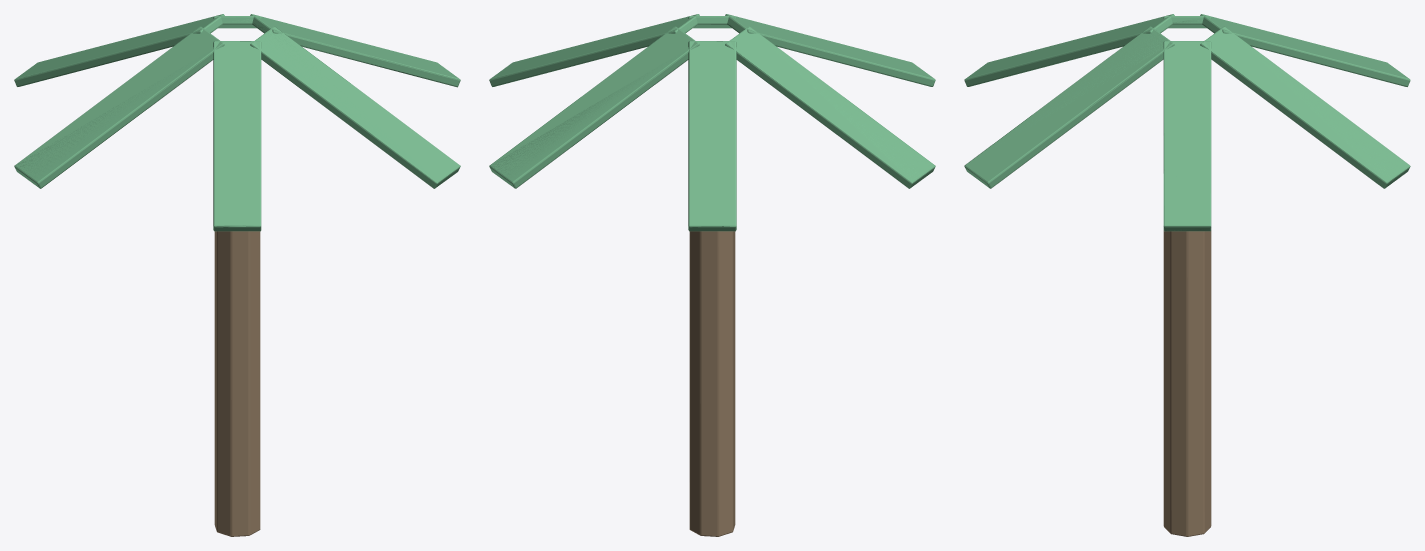
Rendered from SM_Warmerdamm_Palm.fbx.
3 views of the same model, side by side, from view 1: azimuth 30°, elevation 25°; view 2: azimuth 150°, elevation 25°; view 3: azimuth 270°, elevation 25° (orthographic).
Visible parts, largest first — view 1: LOD0_SM_Warmerdamm_Palm, LOD1_SM_Warmerdamm_Palm; view 2: LOD0_SM_Warmerdamm_Palm, LOD1_SM_Warmerdamm_Palm; view 3: LOD0_SM_Warmerdamm_Palm, LOD1_SM_Warmerdamm_Palm.
Boxes of the visible parts, bbox=[...] form: LOD0_SM_Warmerdamm_Palm: bbox=[14, 14, 460, 536]; LOD1_SM_Warmerdamm_Palm: bbox=[14, 14, 460, 536]; LOD0_SM_Warmerdamm_Palm: bbox=[489, 14, 935, 536]; LOD1_SM_Warmerdamm_Palm: bbox=[489, 14, 934, 536]; LOD0_SM_Warmerdamm_Palm: bbox=[964, 14, 1410, 536]; LOD1_SM_Warmerdamm_Palm: bbox=[967, 14, 1408, 536].
Bounding box in the file's own units: 3.26 × 3.67 × 2.98.
